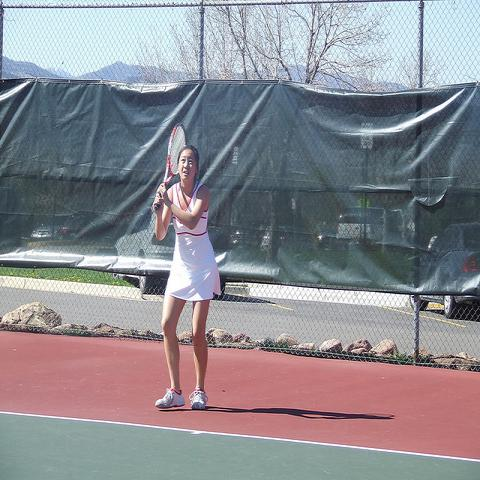car: (409, 248, 479, 319), (112, 218, 176, 293), (335, 208, 405, 242), (32, 213, 112, 240), (228, 228, 260, 257)
